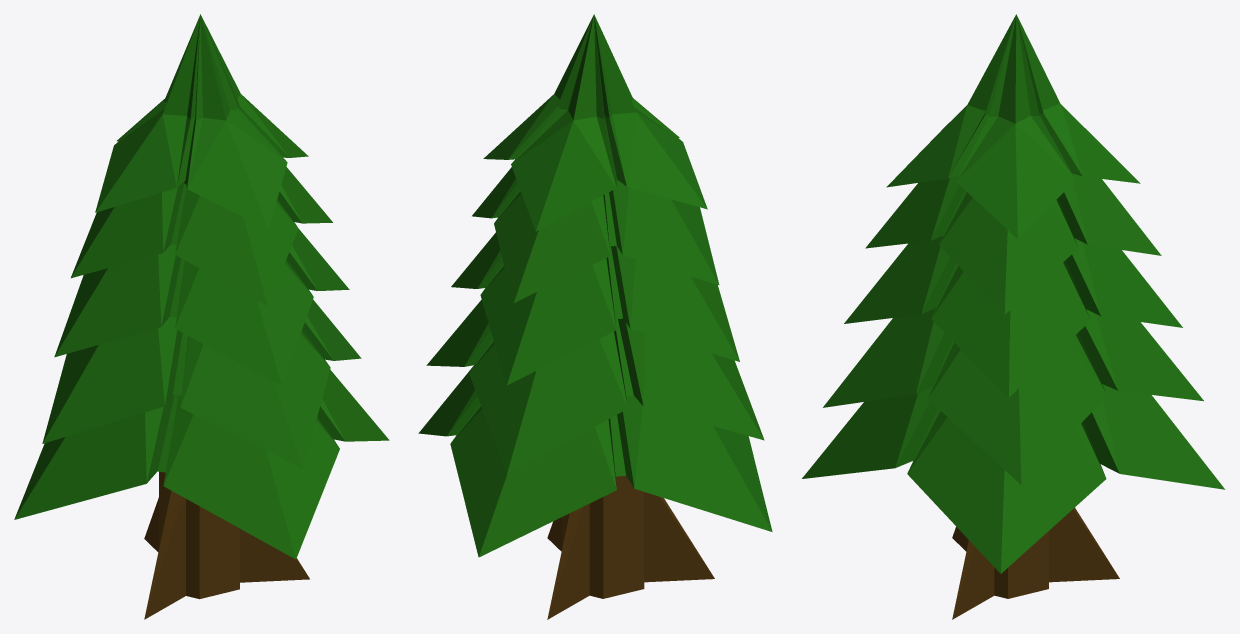
The model's file is Environment_Tree 1.fbx.
3 renders of one model, left to right at view 1: azimuth 30°, elevation 25°; view 2: azimuth 150°, elevation 25°; view 3: azimuth 270°, elevation 25°, orthographic.
Parts seen in each view (by area): view 1: Tree_Leafs, Tree_Treetrunk; view 2: Tree_Leafs, Tree_Treetrunk; view 3: Tree_Leafs, Tree_Treetrunk.
Boxes of the visible parts, x1=… form: Tree_Leafs: x1=14, y1=14, x2=389, y2=559; Tree_Treetrunk: x1=144, y1=181, x2=309, y2=619; Tree_Leafs: x1=418, y1=14, x2=772, y2=557; Tree_Treetrunk: x1=547, y1=476, x2=714, y2=619; Tree_Leafs: x1=802, y1=14, x2=1225, y2=573; Tree_Treetrunk: x1=952, y1=507, x2=1119, y2=619.
Size of the model in its own units: 788 by 788 by 1163.
